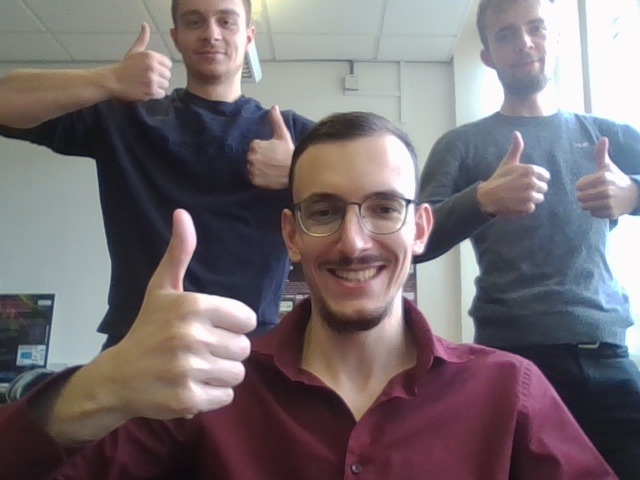thumbup: (127, 206, 259, 418), (479, 131, 549, 215), (573, 137, 630, 222), (243, 105, 297, 188), (122, 25, 172, 100)
